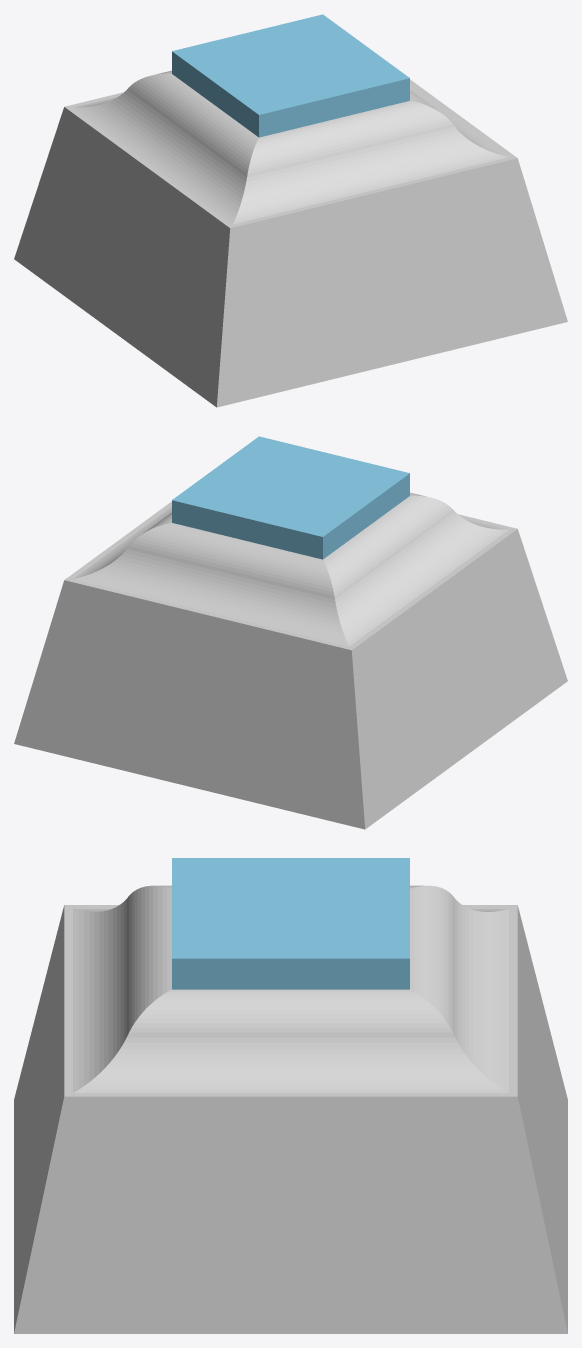
The model's file is Prop_Building_Eastern_Ornamental_Block_01.FBX.
3 renders of one model, top to bottom at view 1: azimuth 30°, elevation 25°; view 2: azimuth 150°, elevation 25°; view 3: azimuth 270°, elevation 25°, orthographic. The views are drawn at different scales.
Parts seen in each view (by area): view 1: Prop_Building_Eastern_Ornamental_Block_01; view 2: Prop_Building_Eastern_Ornamental_Block_01; view 3: Prop_Building_Eastern_Ornamental_Block_01.
Part boxes in pixels (x1,y1,x2,y2): Prop_Building_Eastern_Ornamental_Block_01: [14, 14, 567, 407]; Prop_Building_Eastern_Ornamental_Block_01: [14, 436, 567, 829]; Prop_Building_Eastern_Ornamental_Block_01: [14, 858, 567, 1333].
Size of the model in its own units: 1579 by 970 by 1579.
